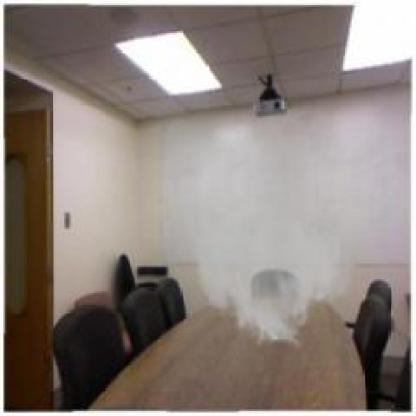Smoke: (189, 207, 355, 351)
